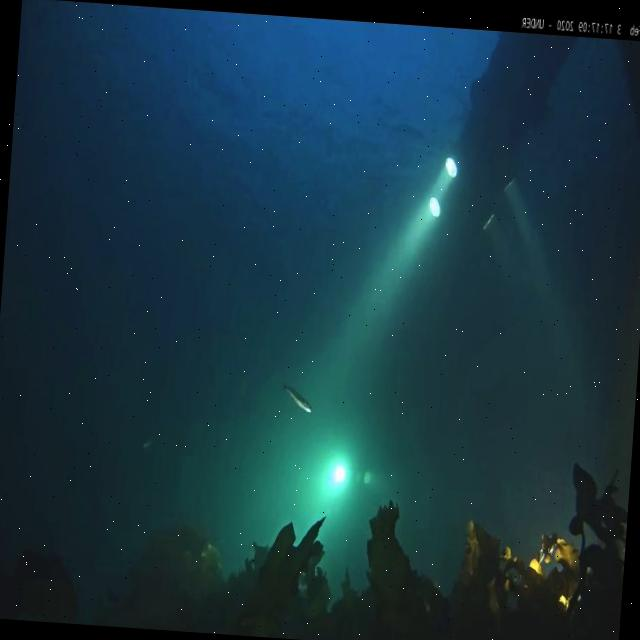fish: (280, 384, 312, 416)
